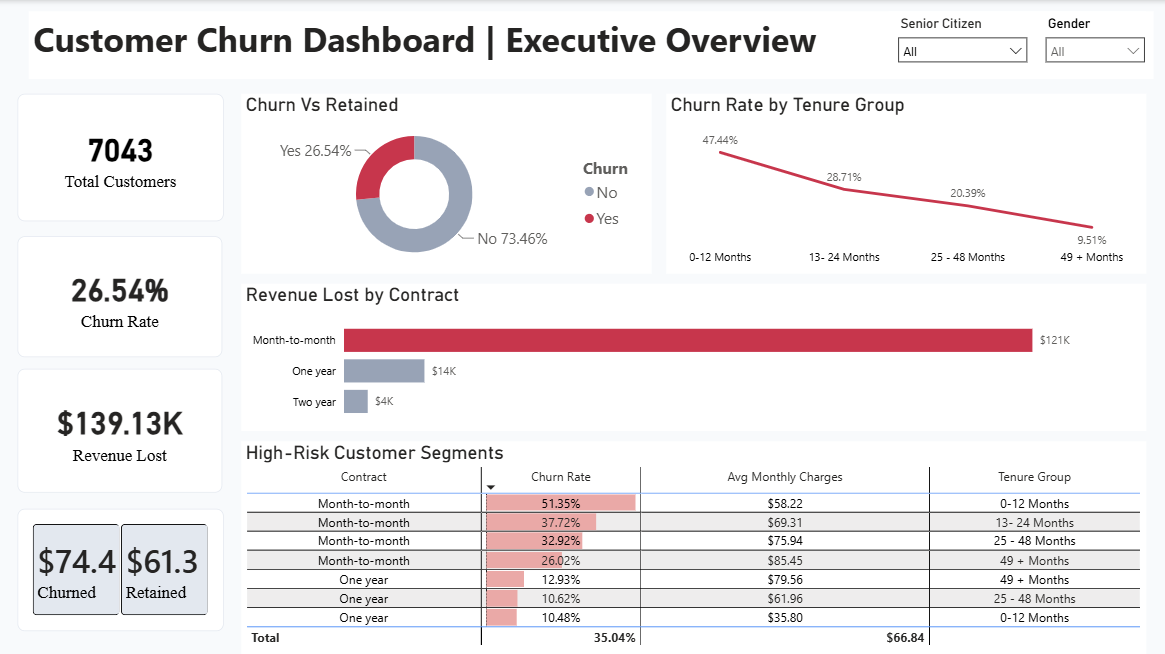

What the dashboard file says about the page in this screenshot:
{"tool":"powerbi","page":{"name":"Executive Overview","canvas":[1280,720],"ordinal":0},"visuals":[{"type":"card","fields":{"Values":["WA_Fn-UseC_-Telco-Customer-Churn.Total Customers"]},"box":[19.2,102.9,226.4,140],"z":0},{"type":"card","fields":{"Values":["WA_Fn-UseC_-Telco-Customer-Churn.Churn Rate"]},"box":[19.2,259.3,225,133.1],"z":1000},{"type":"card","fields":{"Values":["WA_Fn-UseC_-Telco-Customer-Churn.Revenue Lost"]},"box":[19.2,404.8,225,135.8],"z":2000},{"type":"donutChart","title":"Churn Vs Retained","fields":{"Category":["WA_Fn-UseC_-Telco-Customer-Churn.Churn"],"Y":["CountNonNull(WA_Fn-UseC_-Telco-Customer-Churn.customerID)"]},"box":[264.8,102.9,450.1,197.6],"z":3000},{"type":"lineChart","fields":{"Y":["WA_Fn-UseC_-Telco-Customer-Churn.Churn Rate"],"Category":["WA_Fn-UseC_-Telco-Customer-Churn.Tenure Group"]},"box":[731.4,102.9,526.9,197.6],"z":4000},{"type":"tableEx","title":"High-Risk Customer Segments","fields":{"Values":["WA_Fn-UseC_-Telco-Customer-Churn.Contract","WA_Fn-UseC_-Telco-Customer-Churn.Churn Rate","WA_Fn-UseC_-Telco-Customer-Churn.Avg Monthly Charges","WA_Fn-UseC_-Telco-Customer-Churn.Tenure Group"]},"box":[264.8,484.4,993.5,236],"z":5000},{"type":"textbox","box":[31.6,12.3,1226.8,74.1],"z":6000},{"type":"slicer","fields":{"Values":["WA_Fn-UseC_-Telco-Customer-Churn.gender"]},"box":[1137.6,12.3,129,74.1],"z":7000},{"type":"slicer","fields":{"Values":["WA_Fn-UseC_-Telco-Customer-Churn.SeniorCitizen"]},"box":[975.6,12.3,161.9,74.1],"z":8000},{"type":"barChart","fields":{"Category":["WA_Fn-UseC_-Telco-Customer-Churn.Contract"],"Y":["WA_Fn-UseC_-Telco-Customer-Churn.Revenue Lost"]},"box":[264.8,311.5,993.5,161.9],"z":9000},{"type":"cardVisual","fields":{"Data":["WA_Fn-UseC_-Telco-Customer-Churn.Avg Monthly Charges (Churned)","WA_Fn-UseC_-Telco-Customer-Churn.Avg Monthly Charges (Retained)"]},"box":[19.2,558.5,226.4,134.5],"z":10000}]}

Visuals, with their boxes in screenshot pixels (x1, y1, x2, y2), scaled from the page's 1280x720 canvas onto the 1165x654 screenshot:
card - WA_Fn-UseC_-Telco-Customer-Churn.Total Customers: locate(17, 93, 224, 221)
card - WA_Fn-UseC_-Telco-Customer-Churn.Churn Rate: locate(17, 236, 222, 356)
card - WA_Fn-UseC_-Telco-Customer-Churn.Revenue Lost: locate(17, 368, 222, 491)
"Churn Vs Retained" donutChart: locate(241, 93, 651, 273)
lineChart - WA_Fn-UseC_-Telco-Customer-Churn.Churn Rate x WA_Fn-UseC_-Telco-Customer-Churn.Tenure Group: locate(666, 93, 1145, 273)
"High-Risk Customer Segments" tableEx: locate(241, 440, 1145, 653)
textbox: locate(29, 11, 1145, 78)
slicer - WA_Fn-UseC_-Telco-Customer-Churn.gender: locate(1035, 11, 1153, 78)
slicer - WA_Fn-UseC_-Telco-Customer-Churn.SeniorCitizen: locate(888, 11, 1035, 78)
barChart - WA_Fn-UseC_-Telco-Customer-Churn.Contract x WA_Fn-UseC_-Telco-Customer-Churn.Revenue Lost: locate(241, 283, 1145, 430)
cardVisual - WA_Fn-UseC_-Telco-Customer-Churn.Avg Monthly Charges (Churned) x WA_Fn-UseC_-Telco-Customer-Churn.Avg Monthly Charges (Retained): locate(17, 507, 224, 629)
